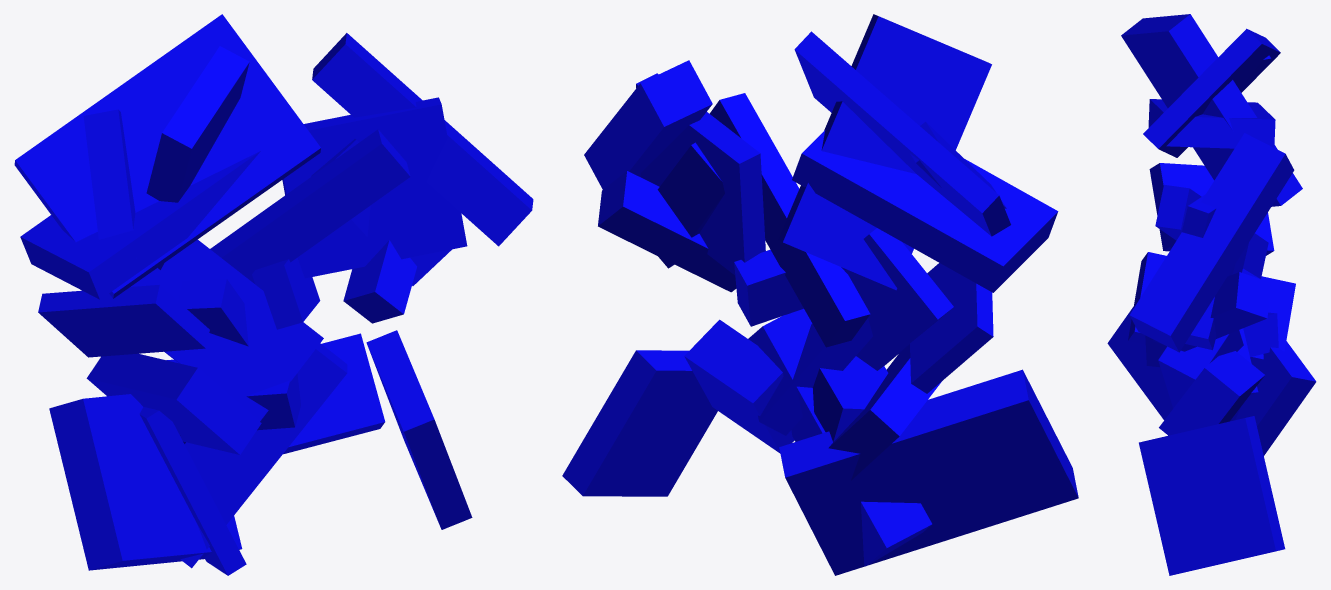
File: test.layouter.randomBoxes.gltf
3 views of the same model, side by side, from view 1: azimuth 30°, elevation 25°; view 2: azimuth 150°, elevation 25°; view 3: azimuth 270°, elevation 25° (orthographic). The views are drawn at different scales.
Parts seen in each view (by area): view 1: shape_5, shape_0, shape_15, shape_19, shape_14, shape_12, shape_2, shape_10, shape_8, shape_6, shape_11, shape_9 (+8 smaller); view 2: shape_0, shape_11, shape_2, shape_9, shape_5, shape_14, shape_15, shape_19, shape_12, shape_17, shape_7, shape_6 (+7 smaller); view 3: shape_9, shape_19, shape_11, shape_0, shape_5, shape_17, shape_2, shape_7, shape_6, shape_8, shape_14, shape_10 (+4 smaller).
Part boxes in pixels (left/top/right/bottom): shape_5: left=14, top=14, right=320, bottom=298; shape_0: left=49, top=394, right=242, bottom=570; shape_15: left=282, top=97, right=467, bottom=278; shape_19: left=312, top=33, right=533, bottom=246; shape_14: left=210, top=129, right=410, bottom=283; shape_12: left=131, top=239, right=323, bottom=421; shape_2: left=20, top=151, right=260, bottom=299; shape_10: left=38, top=284, right=209, bottom=357; shape_8: left=86, top=353, right=261, bottom=454; shape_6: left=180, top=343, right=347, bottom=568; shape_11: left=146, top=46, right=249, bottom=269; shape_9: left=366, top=330, right=472, bottom=529; shape_0: left=779, top=369, right=1078, bottom=575; shape_11: left=778, top=14, right=991, bottom=290; shape_2: left=792, top=130, right=1058, bottom=292; shape_9: left=562, top=350, right=717, bottom=496; shape_5: left=794, top=31, right=1010, bottom=236; shape_14: left=709, top=93, right=870, bottom=347; shape_15: left=636, top=73, right=765, bottom=275; shape_19: left=584, top=60, right=712, bottom=189; shape_12: left=841, top=228, right=953, bottom=370; shape_17: left=684, top=319, right=794, bottom=453; shape_7: left=598, top=171, right=736, bottom=292; shape_6: left=748, top=308, right=931, bottom=566; shape_9: left=1139, top=416, right=1285, bottom=575; shape_19: left=1129, top=133, right=1294, bottom=352; shape_11: left=1121, top=14, right=1302, bottom=206; shape_0: left=1107, top=307, right=1316, bottom=455; shape_5: left=1143, top=28, right=1280, bottom=157; shape_17: left=1159, top=351, right=1264, bottom=435; shape_2: left=1148, top=99, right=1275, bottom=148; shape_7: left=1153, top=272, right=1270, bottom=351; shape_6: left=1158, top=330, right=1243, bottom=421; shape_8: left=1128, top=252, right=1295, bottom=361; shape_14: left=1155, top=184, right=1268, bottom=278; shape_10: left=1149, top=163, right=1274, bottom=255.
Size of the model in its own units: 139 by 153 by 61.45.
